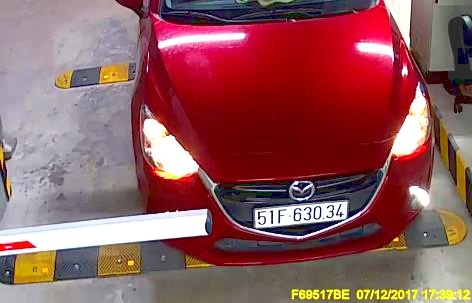plate: (249, 203, 349, 233)
